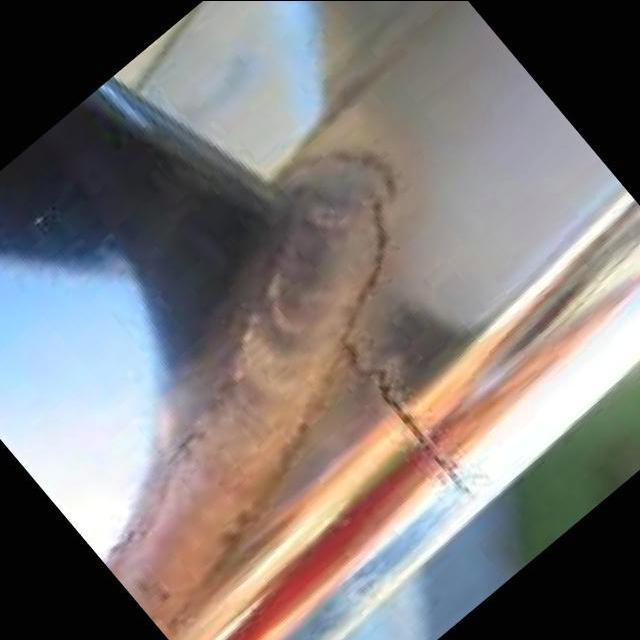defect: (265, 139, 484, 505)
